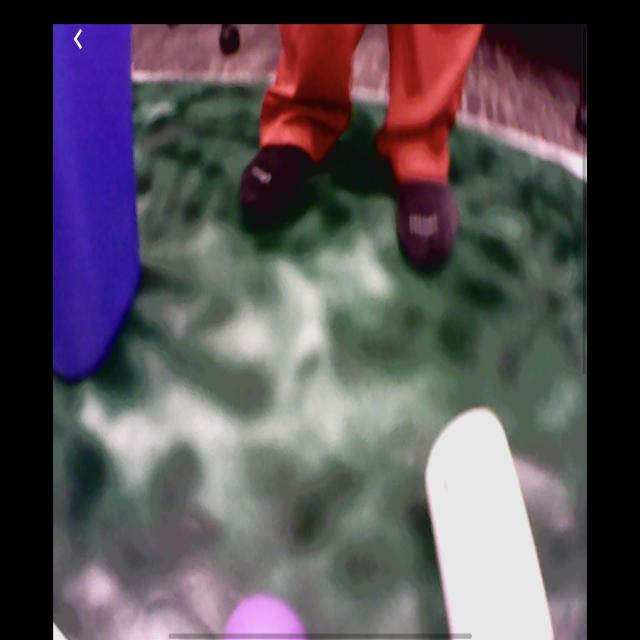ball: (225, 595, 307, 640)
